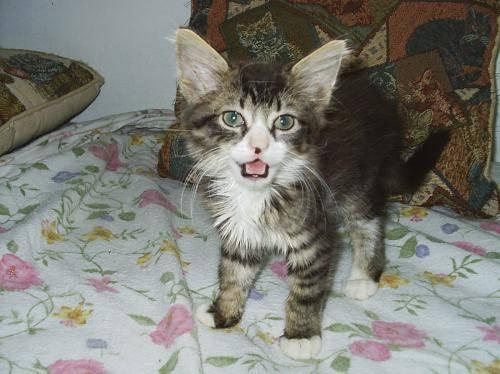cat: (173, 28, 441, 359)
